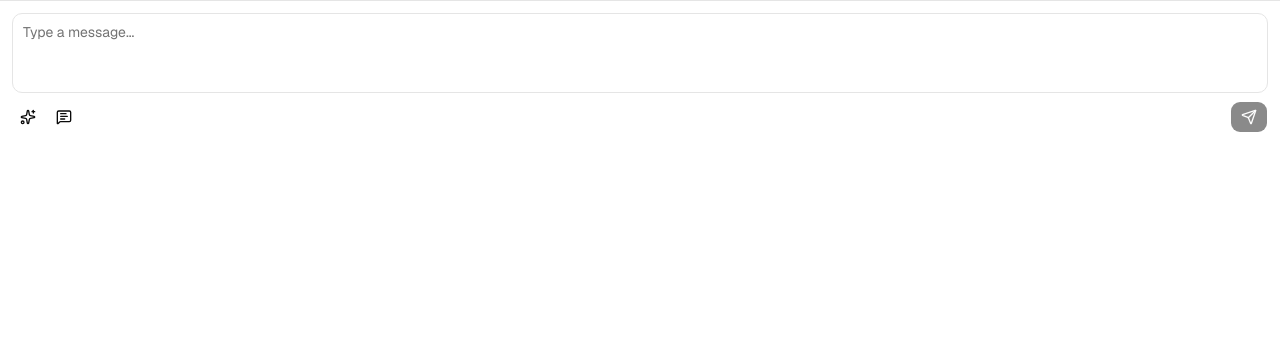
Test: MessageComposer › AI assist › lets the agent dismiss a suggestion
Click the button named "AI assist" at (28, 117), box [12,101,44,133]
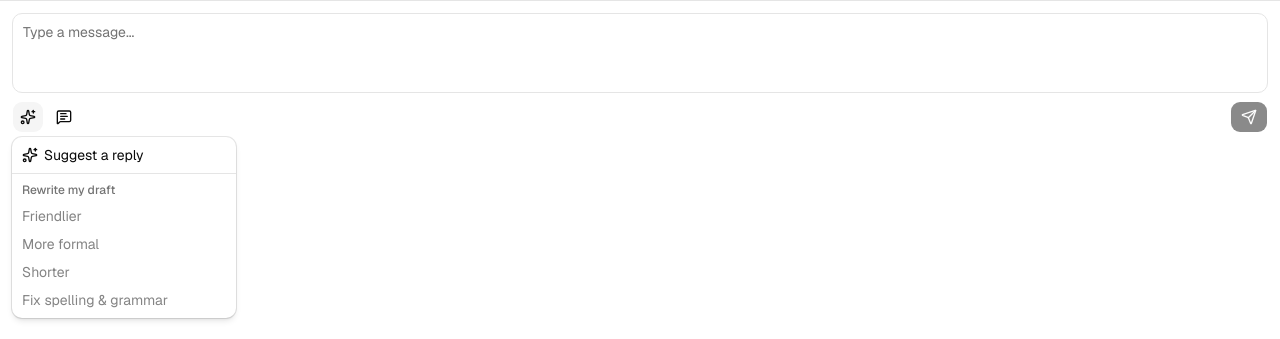
Click the menu item "Suggest a reply" at (83, 155), box [22,146,144,164]
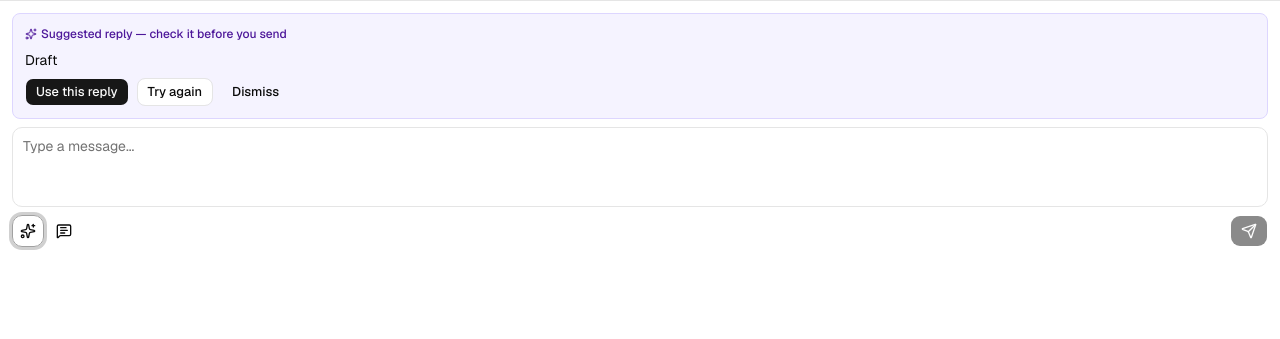
Click the button "Dismiss" at (256, 92), box [221,78,290,106]
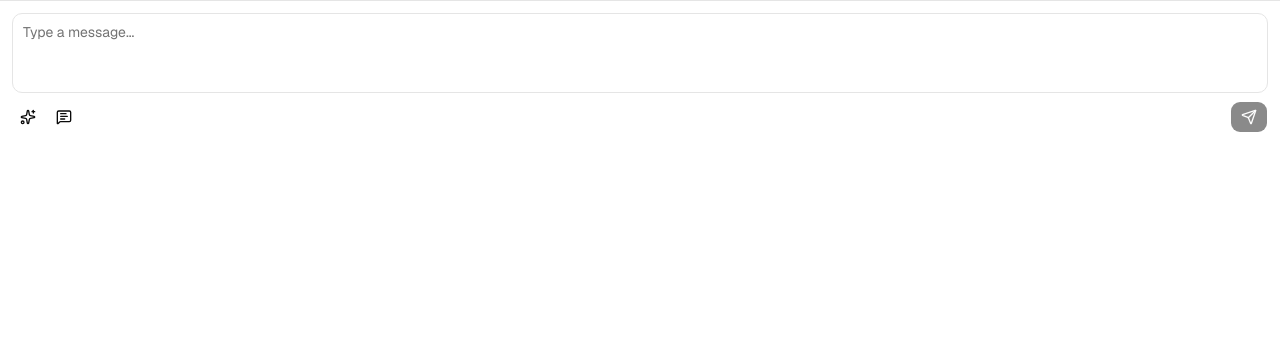
Check: the text "Draft" is gone
